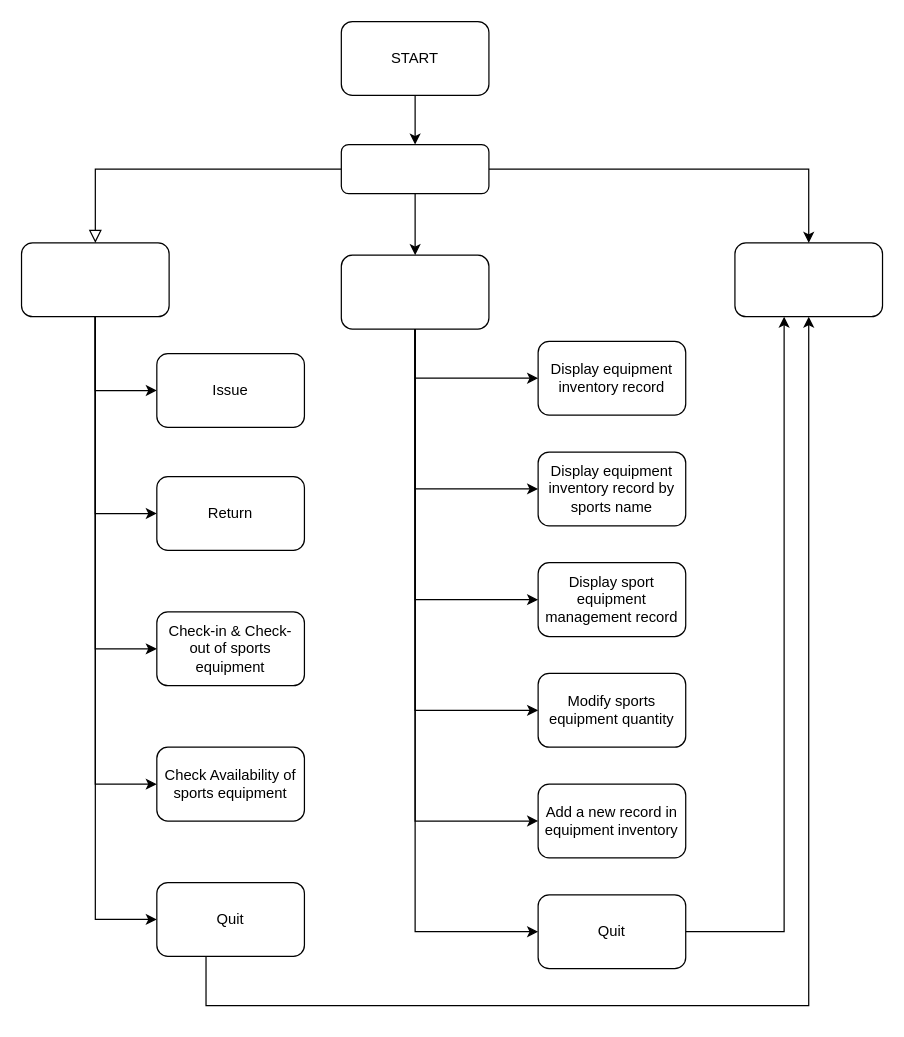
The diagram is 904 pixels wide and 1037 high, and some of its shapes have lost their labels. The centre of each missing label's shape, as x and y in pixels:
"Admin" belongs at point (414, 291).
"END" belongs at point (808, 279).
"Select Account" belongs at point (414, 168).
"User" belongs at point (94, 279).
